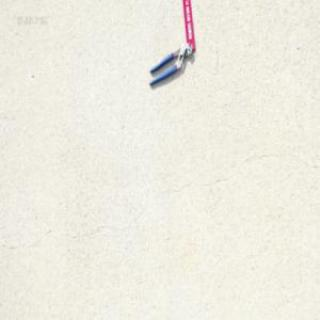LuggageTagtrack_idkeyframe: (182, 0, 196, 51)
Pliertrack_idkeyframe: (147, 40, 192, 86)
